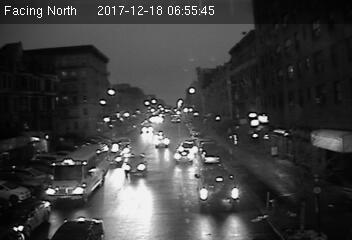car: (194, 166, 244, 211), (123, 153, 149, 176), (173, 148, 195, 164), (201, 148, 220, 165)
truck: (47, 144, 112, 202)
